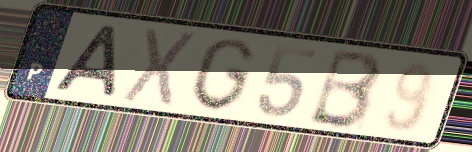5: (255, 42, 322, 119)
9: (383, 59, 441, 135)
A: (48, 22, 122, 101)
B: (304, 47, 386, 132)
G: (187, 35, 259, 114)
X: (118, 24, 202, 111)
